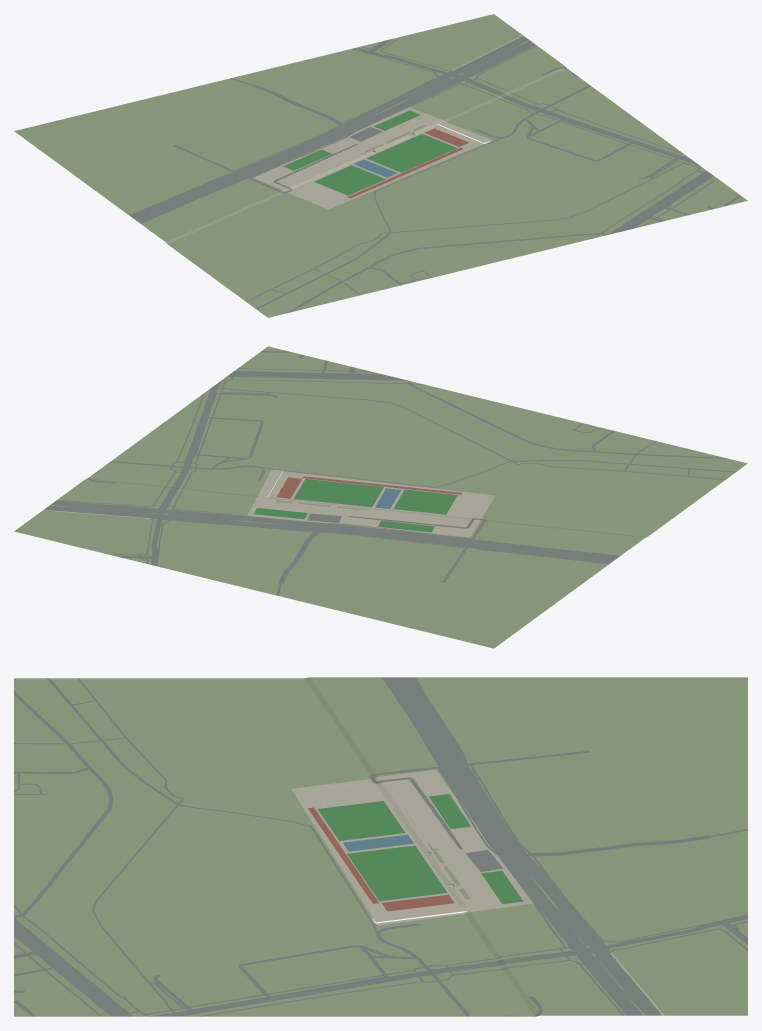
3 views of the same model, one above another, from view 1: azimuth 30°, elevation 25°; view 2: azimuth 150°, elevation 25°; view 3: azimuth 270°, elevation 25° (orthographic). The views are drawn at different scales.
Parts seen in each view (by area): view 1: surface_ground, surface_campus-paved-court, surface_osm-road-1252436243, surface_osm-road-1532298610, surface_girls-turf, surface_boys-turf, surface_osm-road-523144216, surface_osm-road-604527965, surface_front-walk, surface_osm-road-1252436244, surface_osm-road-412953587, surface_osm-road-604527967 (+1 smaller); view 2: surface_ground, surface_campus-paved-court, surface_osm-road-1252436243, surface_osm-road-1532298610, surface_girls-turf, surface_boys-turf, surface_osm-road-523144216, surface_osm-road-604527965, surface_osm-road-1252436244, surface_osm-road-412953587, surface_osm-road-604527967, surface_front-walk; view 3: surface_ground, surface_campus-paved-court, surface_osm-road-1252436243, surface_osm-road-1532298610, surface_girls-turf, surface_boys-turf, surface_osm-road-523144216, surface_osm-road-604527965, surface_osm-road-1252436244, surface_front-walk, surface_osm-road-412953587, surface_osm-road-469016354 (+13 smaller).
Boxes of the visible parts, box(x1,y1,x2,y2) form: surface_ground: box(14, 14, 747, 317); surface_campus-paved-court: box(253, 107, 492, 209); surface_osm-road-1252436243: box(136, 40, 535, 223); surface_osm-road-1532298610: box(236, 36, 528, 174); surface_girls-turf: box(366, 134, 457, 172); surface_boys-turf: box(314, 165, 385, 195); surface_osm-road-523144216: box(607, 170, 713, 234); surface_osm-road-604527965: box(449, 73, 670, 154); surface_front-walk: box(287, 123, 435, 187); surface_osm-road-1252436244: box(129, 172, 239, 218); surface_osm-road-412953587: box(286, 233, 606, 313); surface_osm-road-604527967: box(245, 179, 651, 301); surface_ground: box(14, 346, 747, 648); surface_campus-paved-court: box(247, 470, 495, 537); surface_osm-road-1252436243: box(50, 500, 620, 559); surface_osm-road-1532298610: box(44, 505, 467, 547); surface_girls-turf: box(294, 479, 383, 507); surface_boys-turf: box(393, 489, 457, 514); surface_osm-road-523144216: box(227, 371, 407, 380); surface_osm-road-604527965: box(156, 398, 214, 516); surface_osm-road-1252436244: box(468, 543, 613, 564); surface_osm-road-412953587: box(407, 380, 729, 459); surface_osm-road-604527967: box(272, 392, 725, 479); surface_front-walk: box(269, 497, 465, 523); surface_ground: box(14, 677, 747, 1016); surface_campus-paved-court: box(291, 770, 532, 925); surface_osm-road-1252436243: box(381, 677, 642, 1015); surface_osm-road-1532298610: box(455, 765, 661, 1015); surface_girls-turf: box(347, 845, 447, 901); surface_boys-turf: box(317, 801, 405, 840); surface_osm-road-523144216: box(14, 917, 133, 1016); surface_osm-road-604527965: box(209, 947, 600, 1010); surface_osm-road-1252436244: box(400, 677, 467, 764); surface_front-walk: box(379, 784, 473, 905); surface_osm-road-412953587: box(14, 691, 113, 917); surface_osm-road-469016354: box(238, 945, 388, 998).
Bounding box in the file's own units: 720 × 1.2 × 660.
6 materials, 6 textured.
